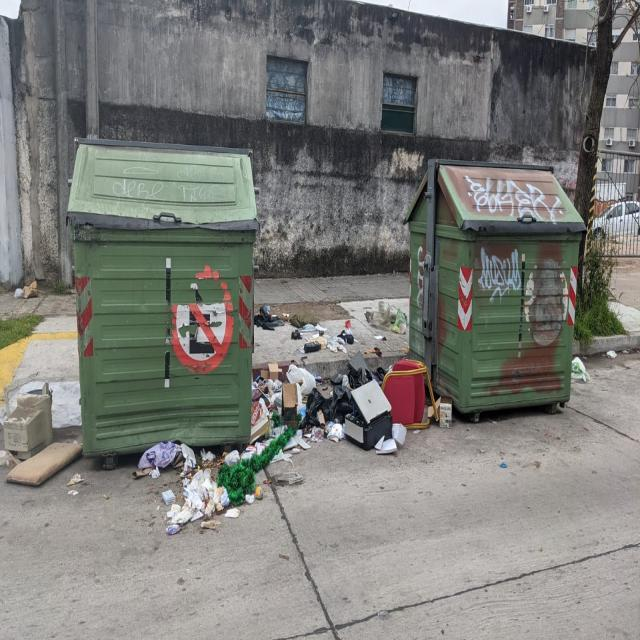garbage: (245, 292, 444, 485), (134, 428, 278, 544), (4, 384, 80, 490), (571, 336, 592, 402)
